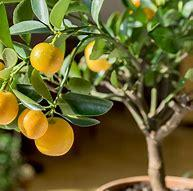orange: (36, 115, 79, 156), (30, 40, 65, 76), (18, 104, 45, 139), (0, 93, 21, 127)
